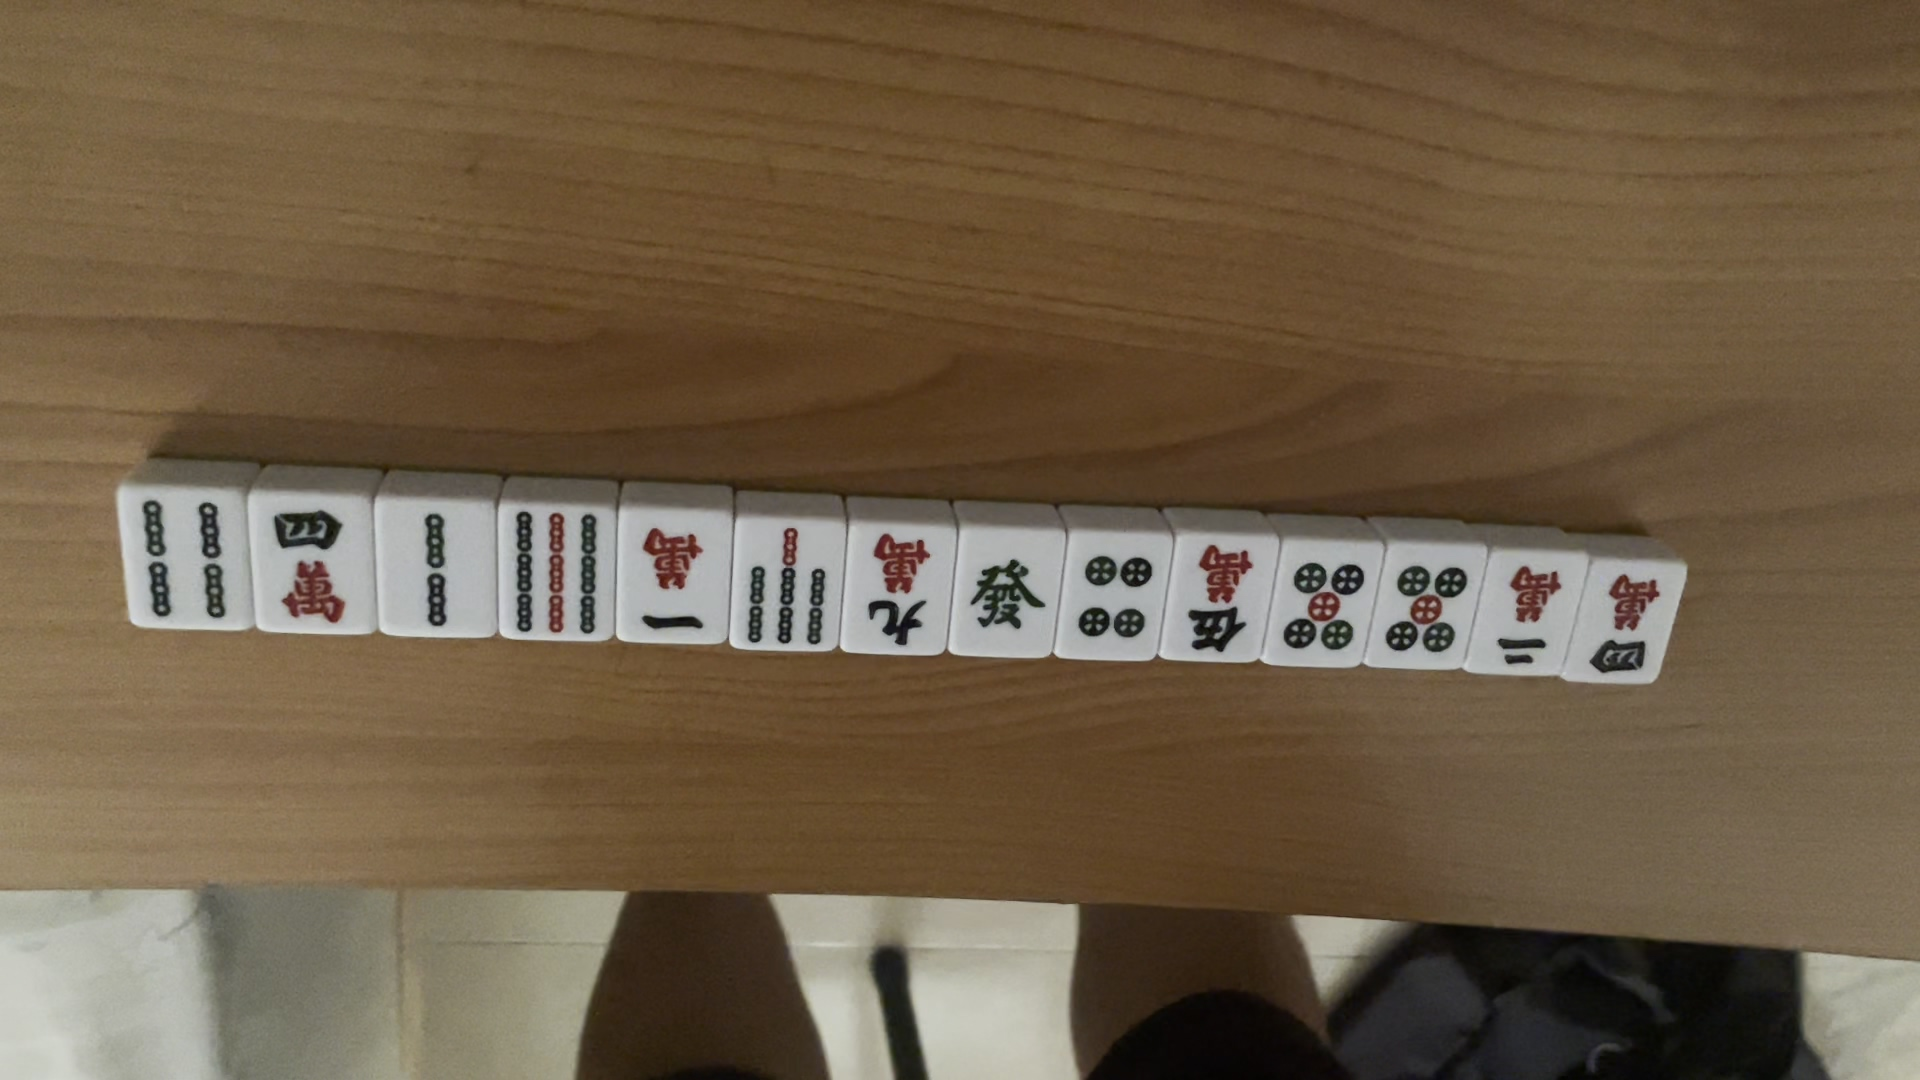b-2: (411, 509, 464, 632)
b-4: (135, 492, 237, 618)
b-7: (744, 524, 829, 647)
b-9: (502, 512, 607, 641)
c-1: (628, 524, 717, 638)
c-2: (1491, 562, 1565, 673)
c-4: (270, 506, 357, 628), (1593, 578, 1667, 675)
c-5: (1187, 546, 1257, 657)
c-9: (858, 527, 935, 650)
d-4: (1073, 551, 1155, 644)
d-5: (1276, 556, 1365, 657), (1387, 563, 1473, 662)
honors-green: (964, 556, 1044, 636)
